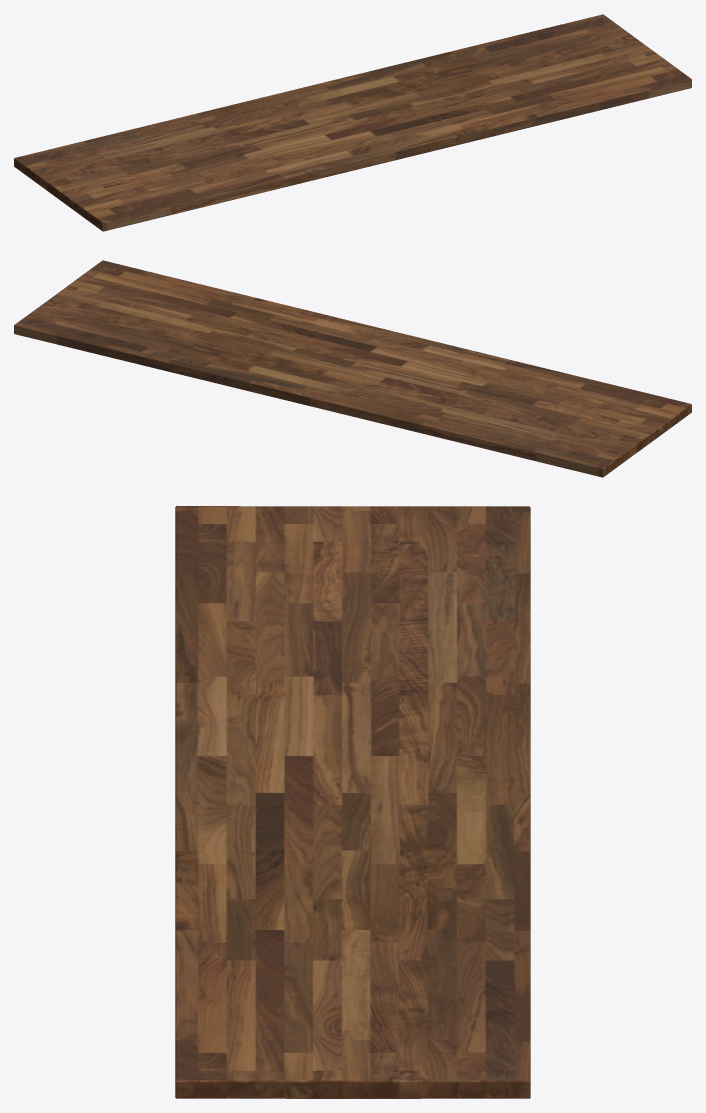
File: KARLBY_70335212.glb
The picture shows the model from 3 angles, top to bottom: view 1: azimuth 30°, elevation 25°; view 2: azimuth 150°, elevation 25°; view 3: azimuth 270°, elevation 25°; orthographic projection. The views are drawn at different scales.
Visible parts, largest first — view 1: model; view 2: model; view 3: model.
Part boxes in pixels (<box>): model: <box>14,14,691,231</box>; model: <box>14,260,691,477</box>; model: <box>175,506,530,1098</box>.
Bounding box in the file's own units: 2.49 × 0.0372 × 0.65.
1 material, 1 textured.
